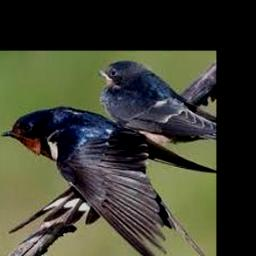Swallow: (1, 106, 217, 256), (100, 60, 217, 138)
